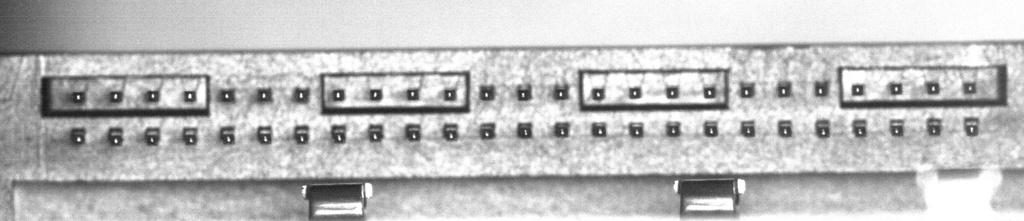pin_ok: (219, 125, 236, 144), (107, 126, 124, 145), (330, 125, 347, 143), (442, 123, 459, 141), (964, 116, 980, 135), (852, 118, 868, 137), (815, 119, 831, 138), (368, 124, 384, 142), (182, 127, 198, 145), (144, 127, 160, 145), (294, 125, 309, 144), (257, 125, 272, 144), (479, 123, 496, 139), (405, 123, 421, 140), (70, 127, 86, 144), (778, 119, 793, 137), (628, 121, 644, 137), (479, 84, 495, 100), (516, 84, 532, 100), (739, 82, 755, 98), (293, 86, 309, 102), (704, 120, 719, 137), (741, 120, 756, 137), (927, 118, 942, 135), (890, 119, 905, 136), (517, 122, 532, 138), (592, 121, 607, 137), (554, 84, 569, 100), (256, 87, 272, 102), (776, 82, 792, 97), (554, 122, 569, 137), (443, 87, 458, 102), (667, 120, 681, 136), (219, 88, 235, 102), (814, 81, 828, 97), (702, 85, 717, 99), (628, 85, 642, 99), (406, 87, 420, 101), (590, 87, 605, 100), (963, 81, 978, 94), (331, 88, 345, 101), (926, 81, 940, 94), (889, 82, 903, 95), (851, 83, 865, 96), (71, 90, 85, 103), (369, 88, 382, 101), (666, 85, 679, 98), (146, 89, 159, 102), (109, 90, 122, 102), (184, 90, 196, 102)
